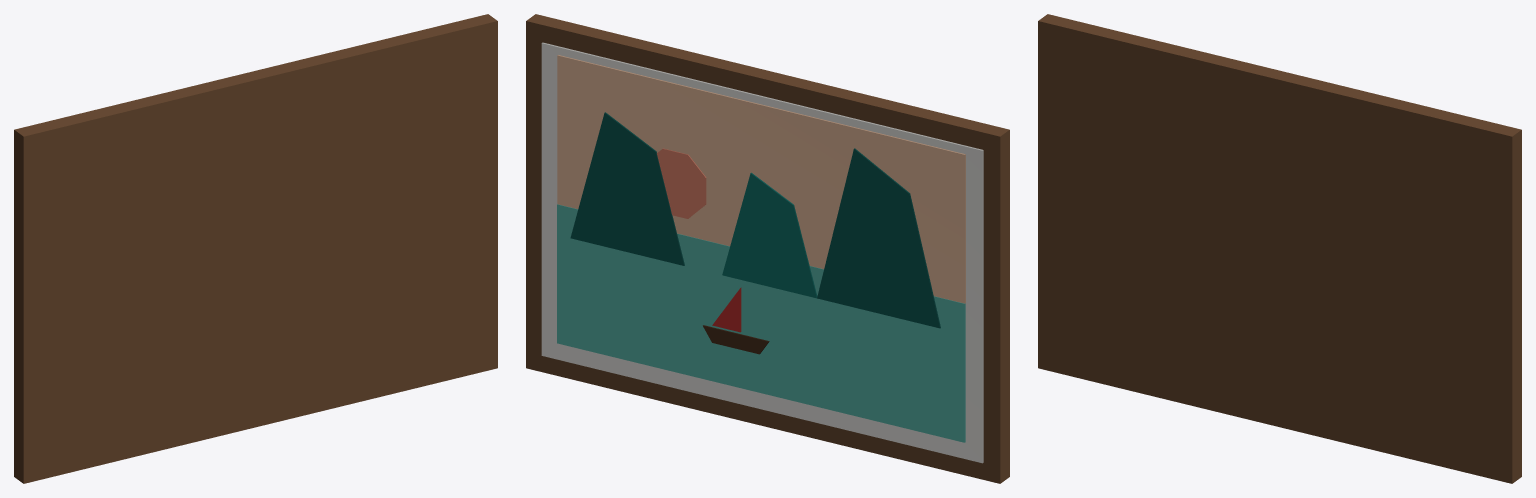
File: painting_01.glb
3 renders of one model, left to right at view 1: azimuth 30°, elevation 25°; view 2: azimuth 150°, elevation 25°; view 3: azimuth 330°, elevation 25°, orthographic.
Visible parts, largest first — view 1: painting_01_mesh; view 2: painting_01_mesh; view 3: painting_01_mesh.
Boxes of the visible parts, left/top/right/bottom form: painting_01_mesh: left=14, top=14, right=497, bottom=483; painting_01_mesh: left=526, top=14, right=1009, bottom=483; painting_01_mesh: left=1038, top=14, right=1521, bottom=483.
Bounding box in the file's own units: 1 × 0.7 × 0.0485.
1 material, 1 textured.
